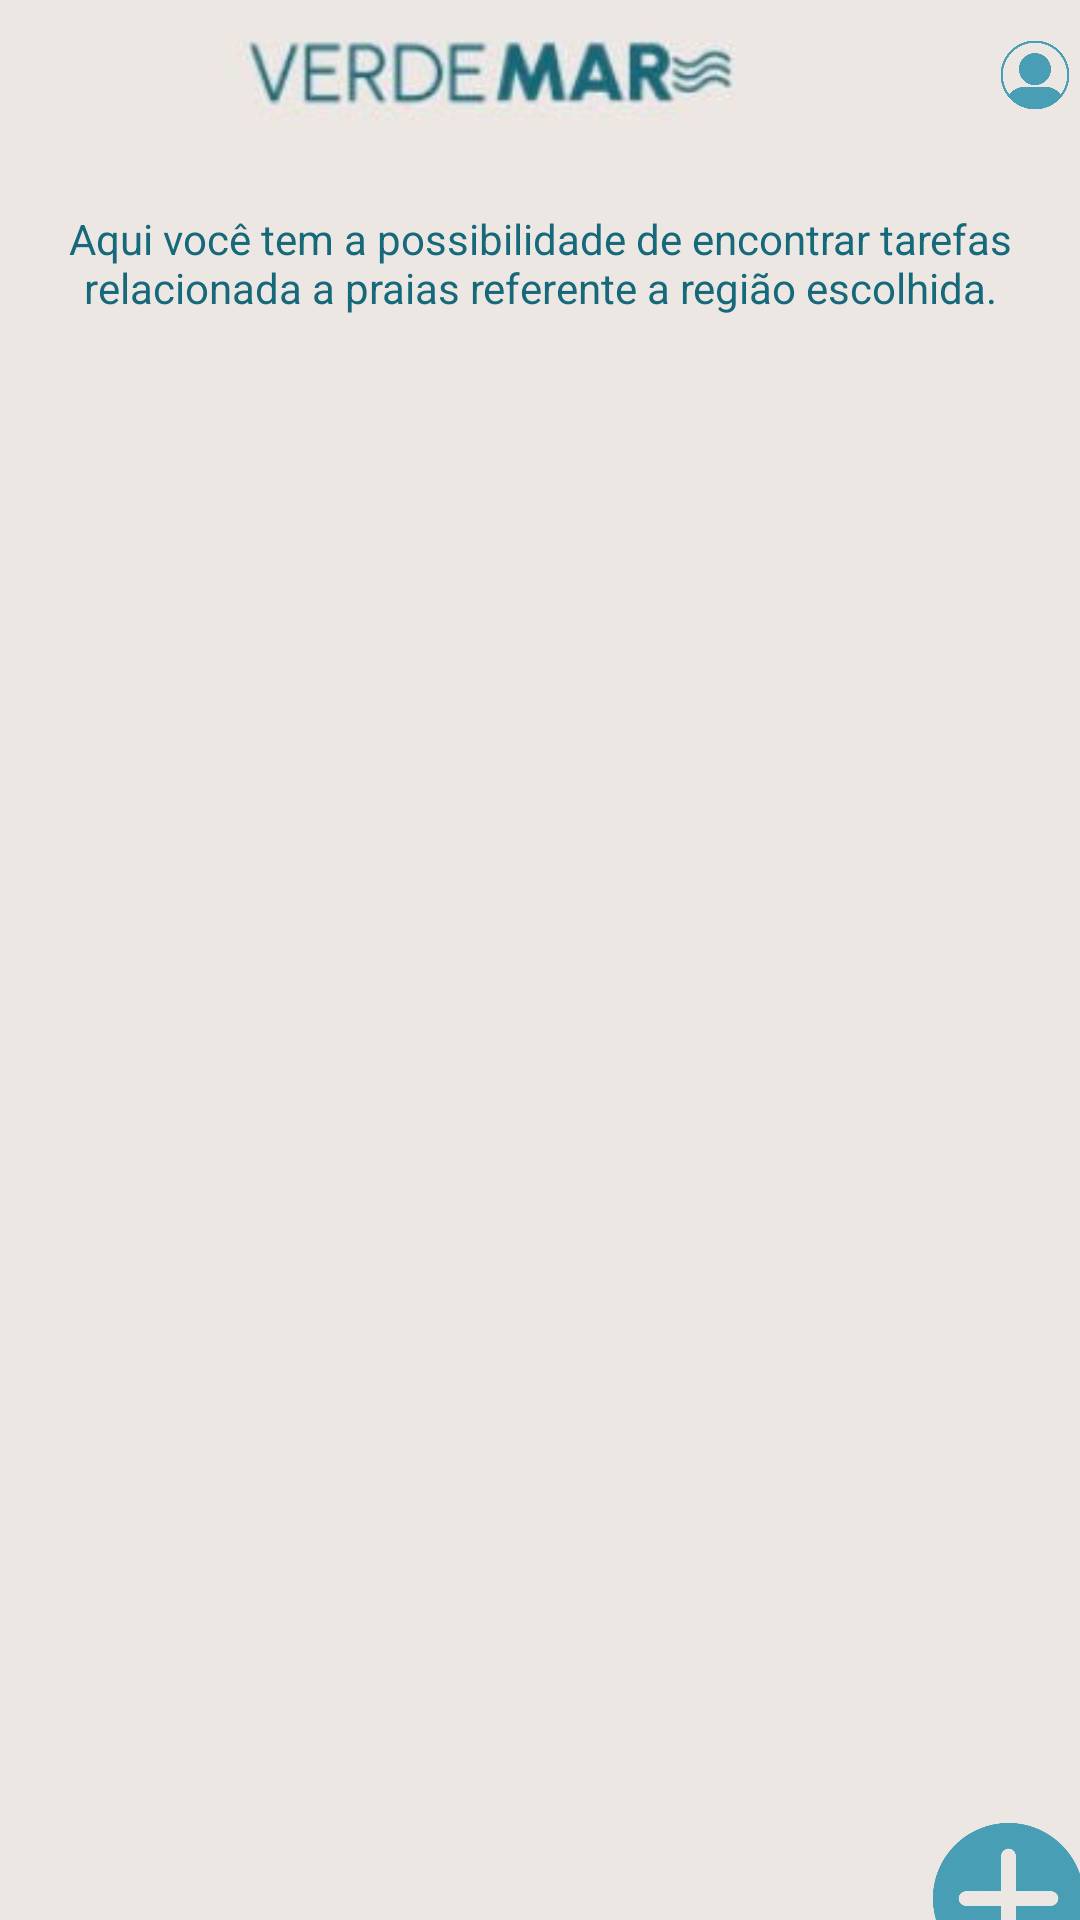

Where to tap for icons on this 1080 × 1920 app screen, as point (x, y):
usuario: point (1035, 74)
